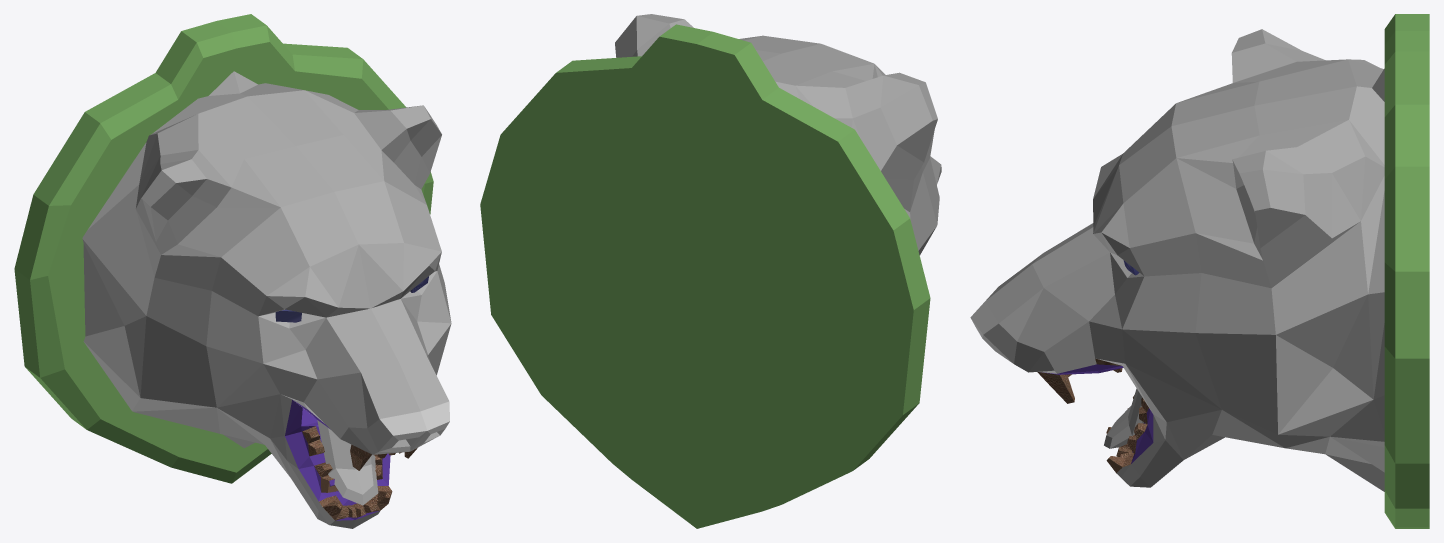
The model's file is Prop_Bear_Mount_01Fixed.fbx.
The picture shows the model from 3 angles, left to right: view 1: azimuth 30°, elevation 25°; view 2: azimuth 150°, elevation 25°; view 3: azimuth 270°, elevation 25°; orthographic projection. The views are drawn at different scales.
Visible parts, largest first — view 1: SM_Prop_Bear_Mount_01_UvFixed; view 2: SM_Prop_Bear_Mount_01_UvFixed; view 3: SM_Prop_Bear_Mount_01_UvFixed.
Boxes of the visible parts, left/top/right/bottom form: SM_Prop_Bear_Mount_01_UvFixed: left=14, top=14, right=451, bottom=528; SM_Prop_Bear_Mount_01_UvFixed: left=480, top=14, right=941, bottom=528; SM_Prop_Bear_Mount_01_UvFixed: left=970, top=14, right=1429, bottom=528.
Bounding box in the file's own units: 80.94 × 86.48 × 72.29.
